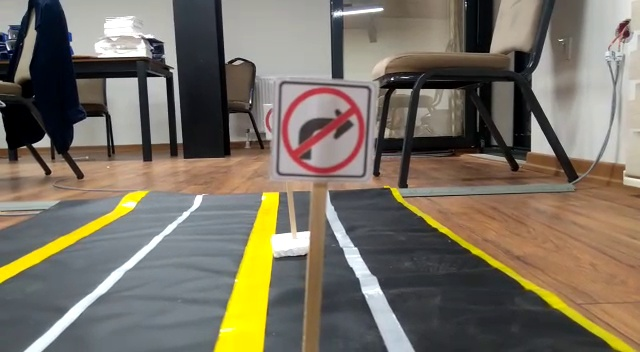saga_donulmez: (278, 80, 370, 178)
